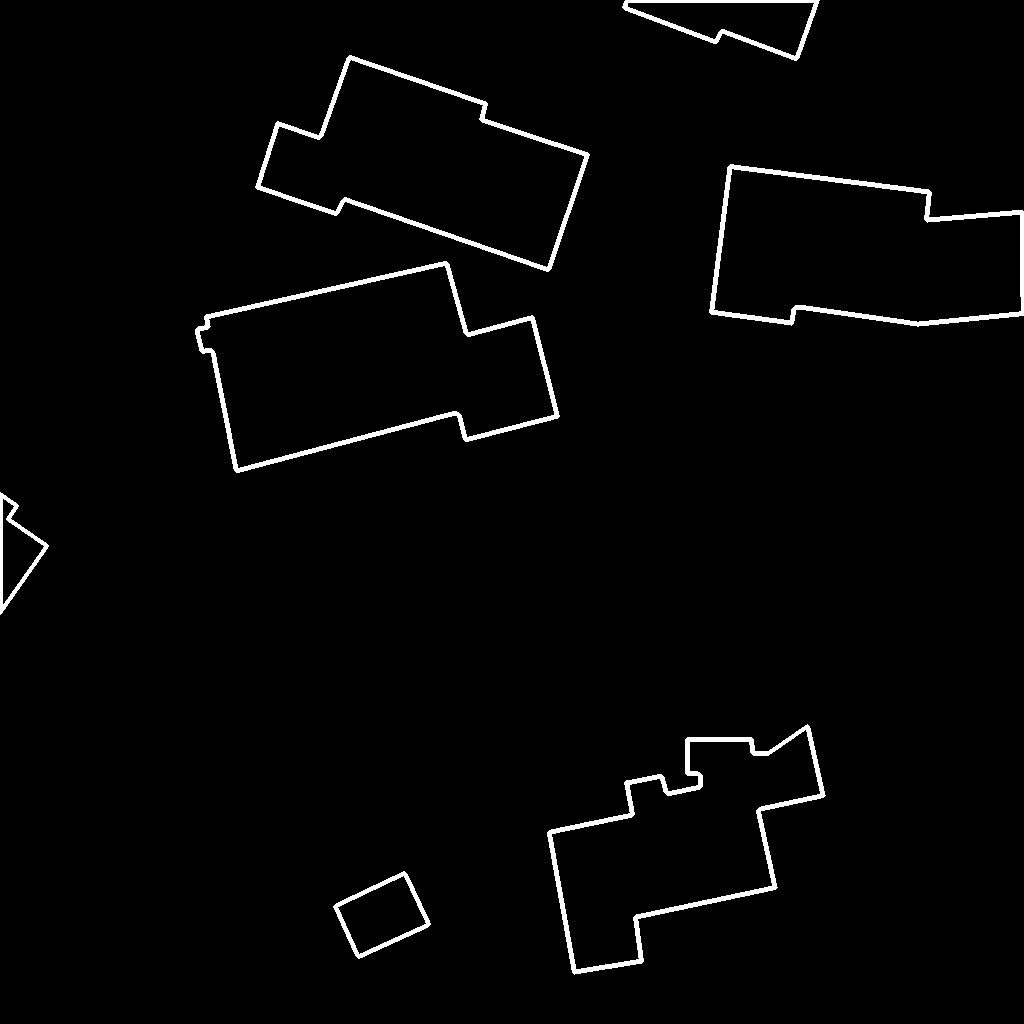building: (197, 263, 559, 472), (257, 57, 589, 271), (549, 726, 824, 973), (711, 166, 1024, 325), (624, 0, 819, 60), (335, 873, 430, 958), (0, 494, 48, 614)
